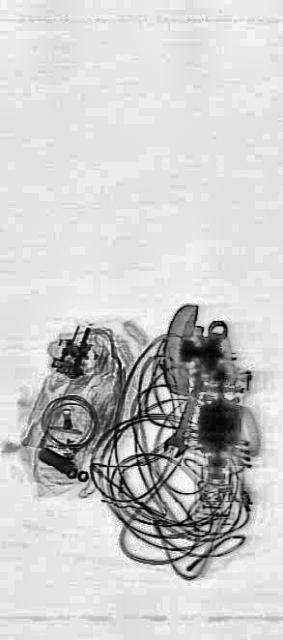Wrench: (162, 304, 230, 472)
